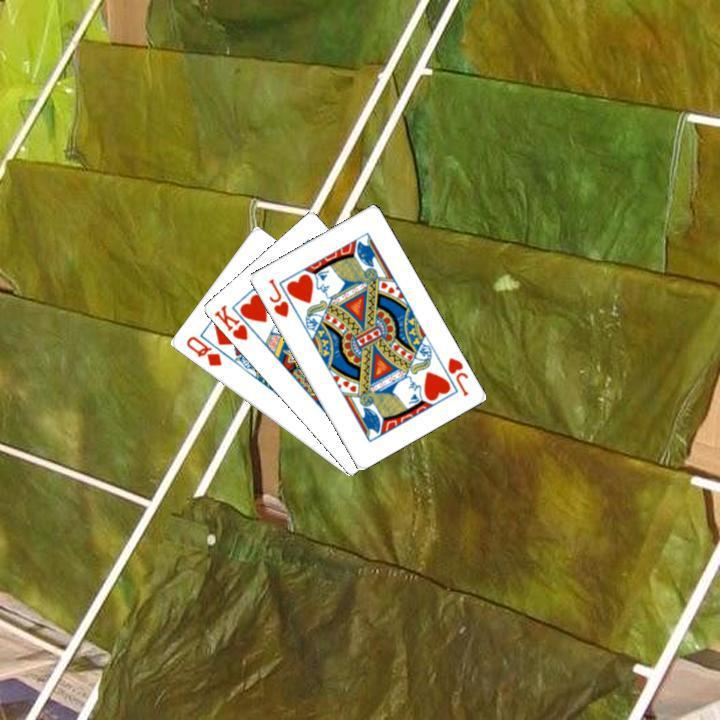J: (264, 274, 291, 319), (443, 353, 470, 398)
K: (209, 300, 250, 342)
Q: (181, 332, 224, 368)
